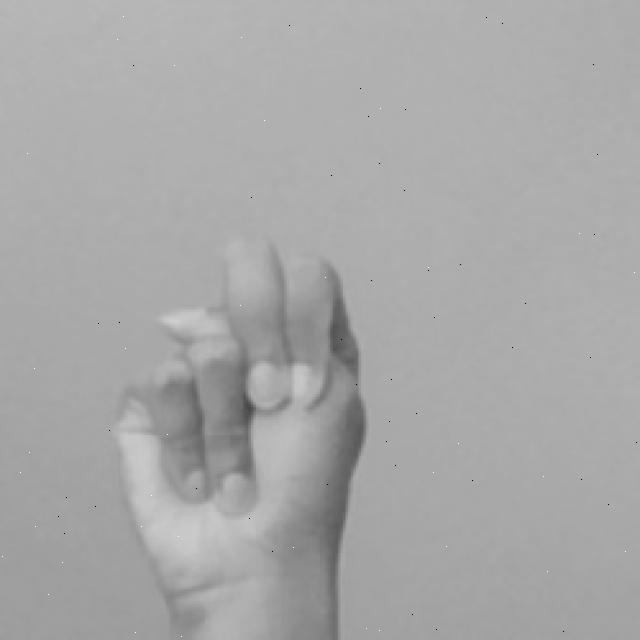N: (101, 228, 376, 640)
